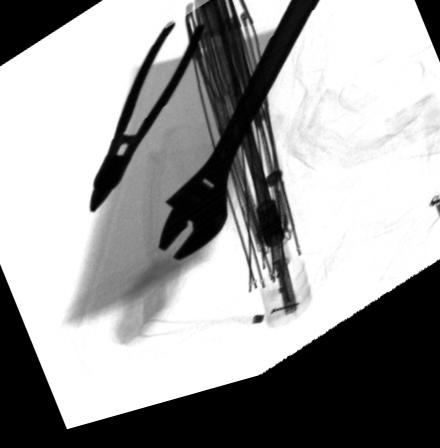Pliers: (89, 29, 209, 217)
Wrench: (157, 0, 329, 271)
